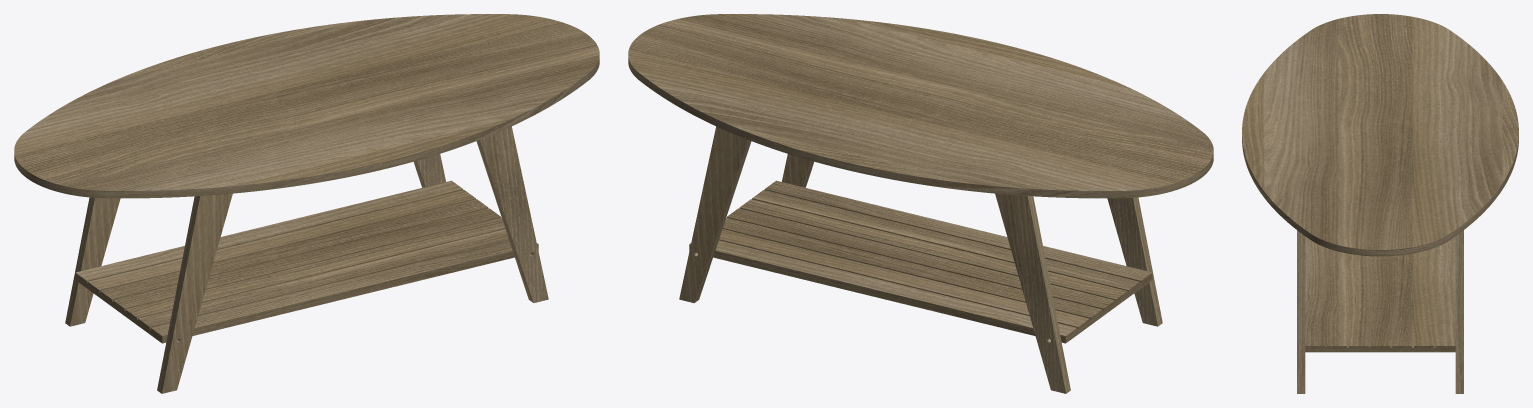
The picture shows the model from 3 angles, left to right: view 1: azimuth 30°, elevation 25°; view 2: azimuth 150°, elevation 25°; view 3: azimuth 270°, elevation 25°; orthographic projection. The views are drawn at different scales.
Parts seen in each view (by area): view 1: A331250-TAPASXXXTA, A331250-ESTANTESES, A331250-PATASXXXPA001, A331250-PATASXXXPA004, A331250-PATASXXXPA007, A331250-PATASXXXPA010; view 2: A331250-TAPASXXXTA, A331250-ESTANTESES, A331250-PATASXXXPA007, A331250-PATASXXXPA010, A331250-PATASXXXPA001, A331250-PATASXXXPA004; view 3: A331250-TAPASXXXTA, A331250-ESTANTESES, A331250-PATASXXXPA004, A331250-PATASXXXPA010.
Part boxes in pixels (left/top/right/bottom): A331250-TAPASXXXTA: left=14, top=14, right=599, bottom=198; A331250-ESTANTESES: left=75, top=180, right=538, bottom=343; A331250-PATASXXXPA001: left=157, top=193, right=232, bottom=393; A331250-PATASXXXPA004: left=476, top=126, right=548, bottom=302; A331250-PATASXXXPA007: left=65, top=197, right=120, bottom=326; A331250-PATASXXXPA010: left=414, top=154, right=445, bottom=187; A331250-TAPASXXXTA: left=628, top=14, right=1213, bottom=198; A331250-ESTANTESES: left=689, top=180, right=1152, bottom=343; A331250-PATASXXXPA007: left=995, top=193, right=1070, bottom=393; A331250-PATASXXXPA010: left=679, top=126, right=751, bottom=302; A331250-PATASXXXPA001: left=1107, top=197, right=1162, bottom=326; A331250-PATASXXXPA004: left=782, top=154, right=813, bottom=187; A331250-TAPASXXXTA: left=1242, top=14, right=1518, bottom=256; A331250-ESTANTESES: left=1305, top=236, right=1455, bottom=352; A331250-PATASXXXPA004: left=1297, top=230, right=1305, bottom=393; A331250-PATASXXXPA010: left=1455, top=230, right=1463, bottom=393.
Bounding box in the file's own units: 1.19 × 0.424 × 0.5899.
1 material, 1 textured.
